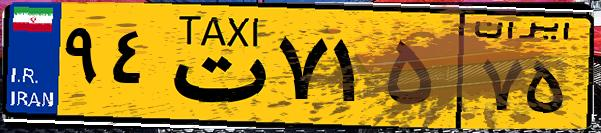1: (330, 28, 385, 110)
4: (110, 28, 158, 98)
5: (385, 28, 445, 110), (525, 38, 570, 115)
7: (270, 28, 330, 110), (475, 38, 525, 113)
9: (57, 26, 110, 100)
ت: (158, 12, 270, 120)
